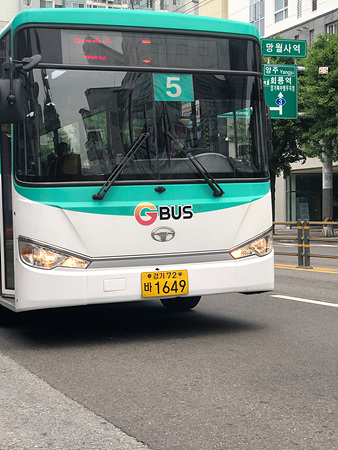bnum: (156, 71, 190, 99)
